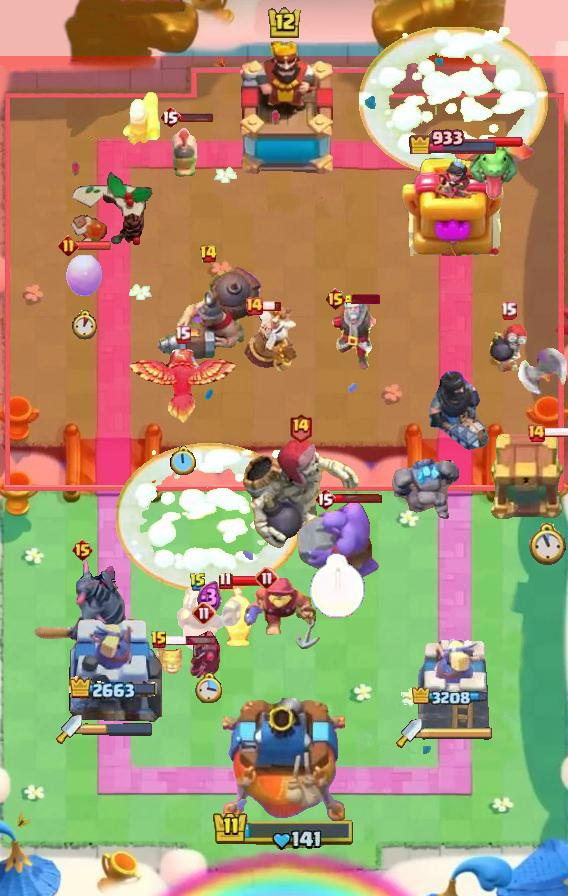archer-queen: (293, 499, 381, 579)
bar: (66, 611, 162, 731), (416, 637, 490, 731)
battle-ram: (183, 628, 225, 682)
bomb: (490, 433, 568, 521)
clock: (212, 810, 356, 852)
electro-giant: (239, 438, 361, 550)
electro-spirit: (197, 581, 222, 615)
electro-wizard: (452, 138, 536, 200)
elixir: (309, 553, 366, 619), (530, 523, 567, 566), (195, 672, 223, 703), (71, 310, 99, 340), (169, 447, 196, 477)
elixir-collector: (241, 304, 299, 374)
emote: (165, 635, 217, 646), (333, 493, 383, 504), (178, 111, 214, 123), (488, 136, 524, 148), (230, 575, 266, 587), (76, 241, 112, 252), (344, 294, 380, 304), (544, 427, 568, 438), (262, 300, 282, 312)
executioner: (223, 586, 255, 650), (170, 122, 200, 178)
fireball: (242, 576, 322, 650)
freeze: (176, 586, 242, 656)
golden-knight: (126, 347, 238, 427)
golemite: (34, 557, 130, 649)
hog: (66, 250, 104, 298)
ice-golem: (487, 321, 529, 373)
ice-spirit-evolution: (153, 642, 185, 676)
inferno-dragon: (427, 368, 491, 451)
king-tower: (228, 41, 340, 181), (223, 698, 345, 826)
king-tower-bar: (82, 722, 154, 736), (422, 726, 494, 740)
mortar: (313, 298, 395, 370)
phoenix-big: (359, 27, 550, 176), (116, 443, 304, 591)
queen-tower: (401, 156, 505, 256)
royal-giant: (514, 348, 568, 408)
selected: (409, 126, 500, 154), (69, 676, 159, 703), (412, 687, 494, 709)
text: (288, 413, 312, 444), (255, 566, 279, 590), (192, 601, 216, 625), (324, 287, 347, 311), (70, 538, 93, 562), (159, 105, 181, 129), (314, 487, 336, 511), (57, 236, 78, 257), (244, 296, 264, 316), (526, 423, 546, 443), (198, 244, 217, 264), (189, 572, 207, 592), (150, 630, 168, 650), (499, 301, 517, 319), (174, 325, 191, 343), (218, 570, 233, 589)
tombstone: (120, 89, 162, 147)
valkyrie-evolution: (388, 454, 460, 522)
wizard: (152, 265, 264, 363)
